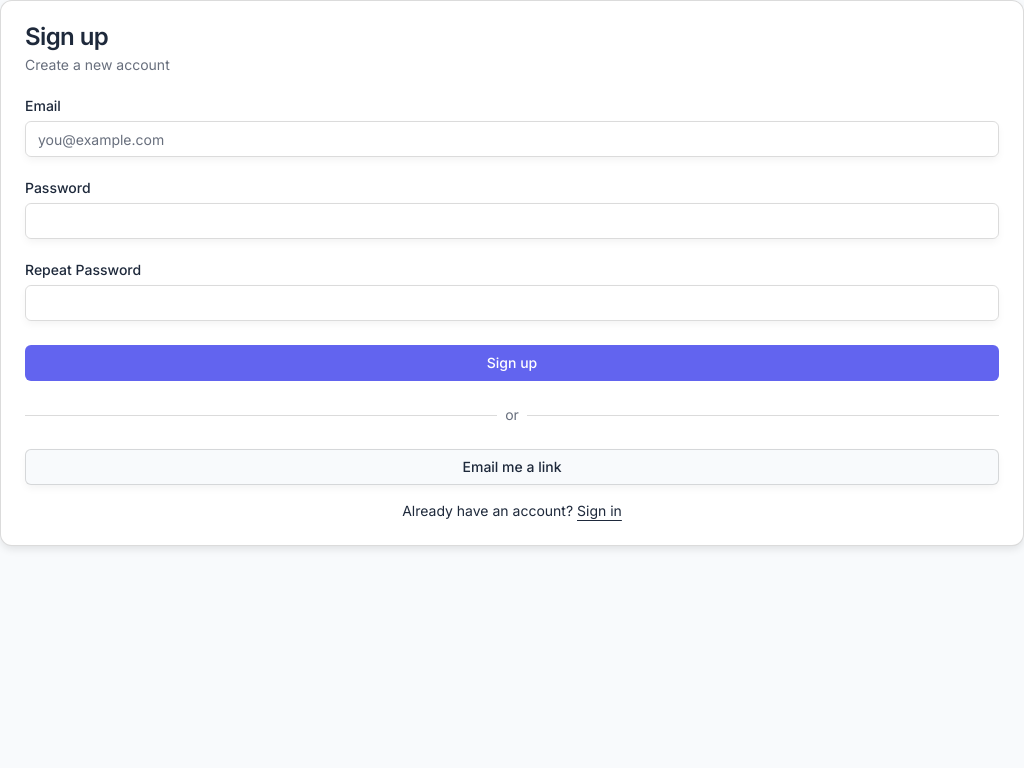
Test: SignUpForm › should render the action envelope and not navigate on failure
Type "new@example.com" into the field labelled "Email".
click(512, 139); type("new@example.com")  # box [25,121,999,157]
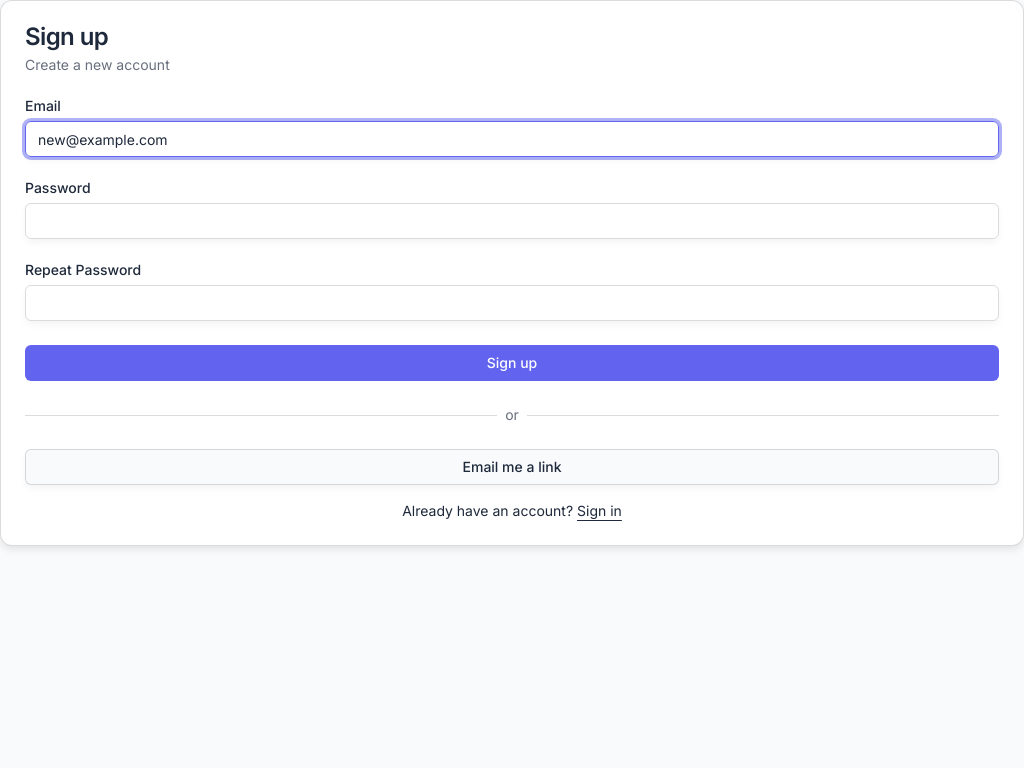
Type "password123" into the password field labelled "Password".
click(512, 221); type("password123")  # box [25,203,999,239]
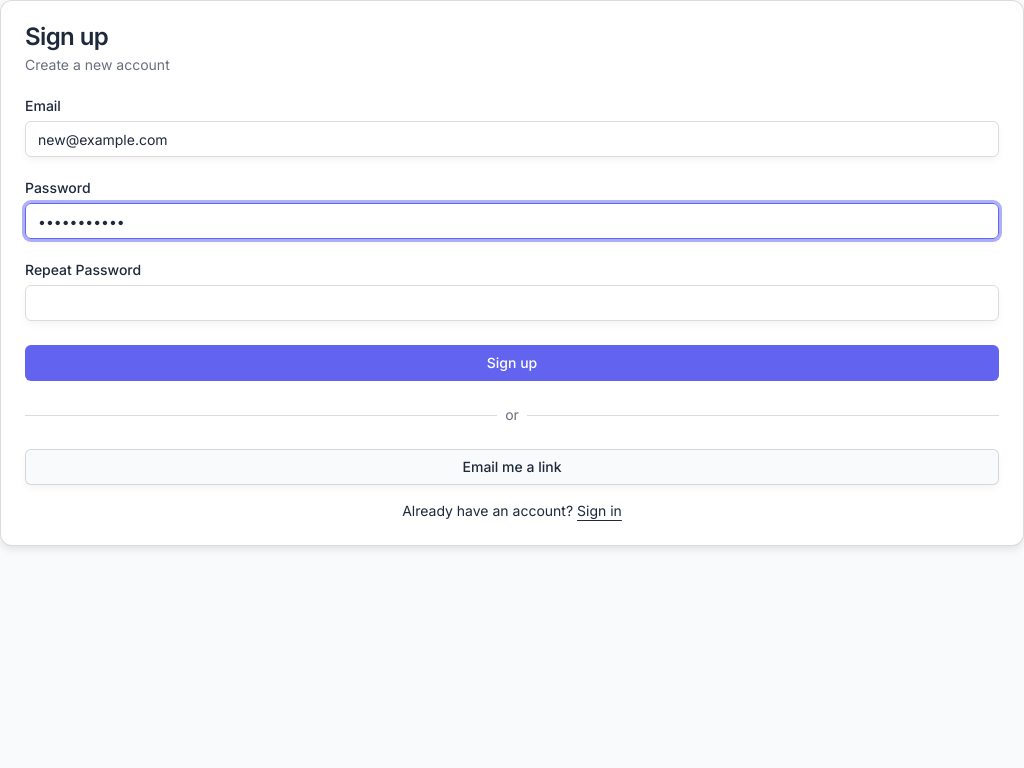
Type "password123" into the password field labelled "Repeat Password".
click(512, 303); type("password123")  # box [25,285,999,321]
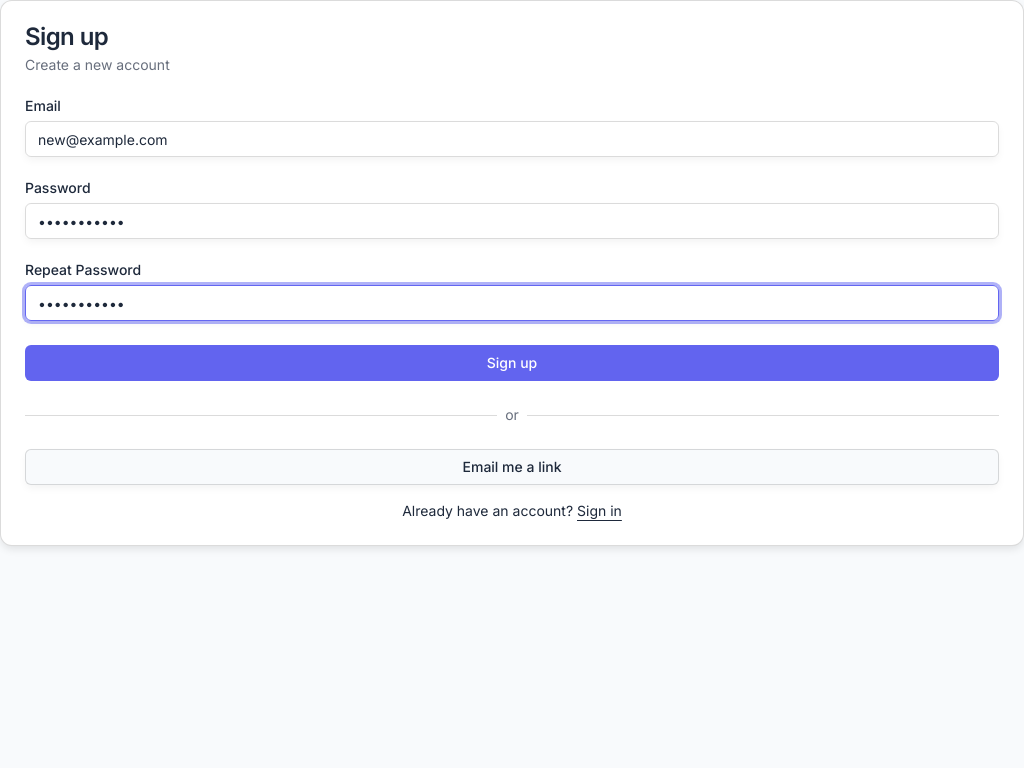
Click the button "Sign up".
click(512, 363)  # box [25,345,999,381]
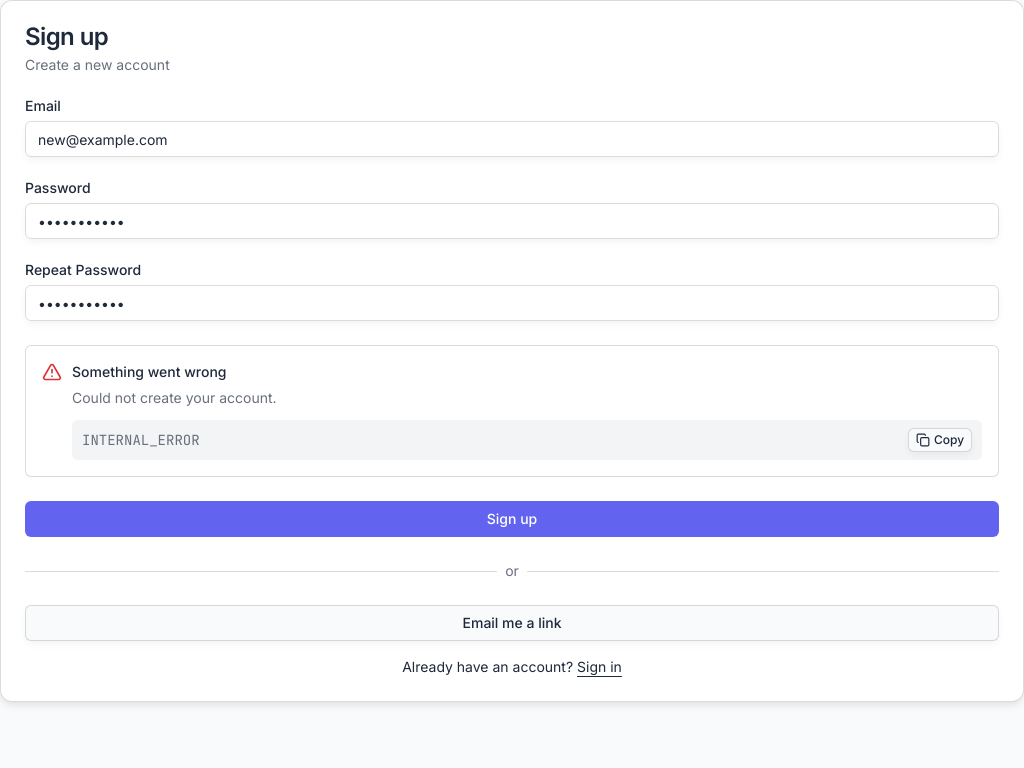
Expected: the text "Could not create your account." is shown, [72,389,277,406]
